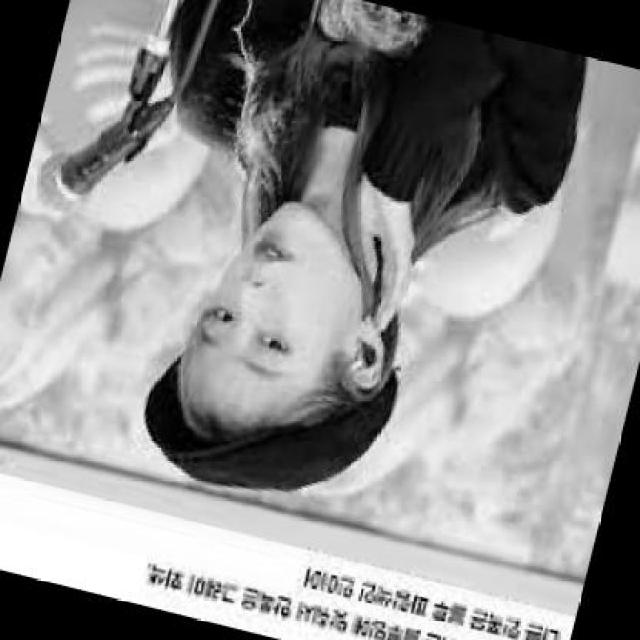earphone: (353, 334, 389, 369)
